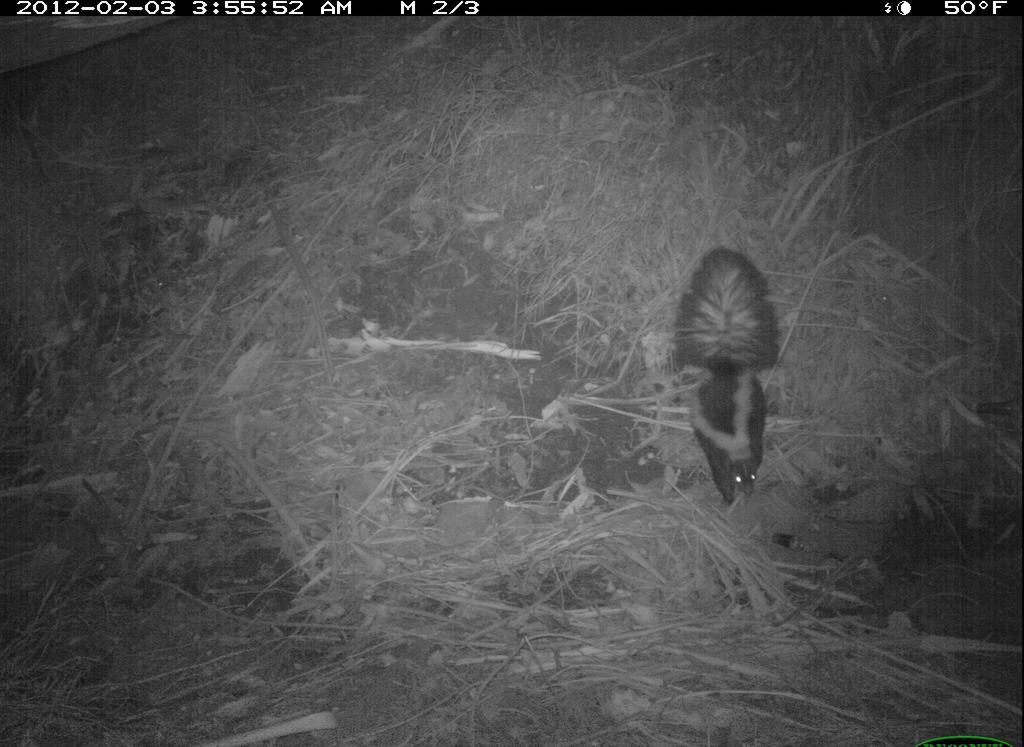skunk: (662, 263, 789, 505)
